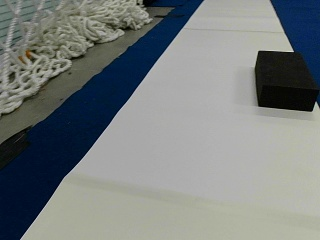block: (254, 50, 318, 110)
